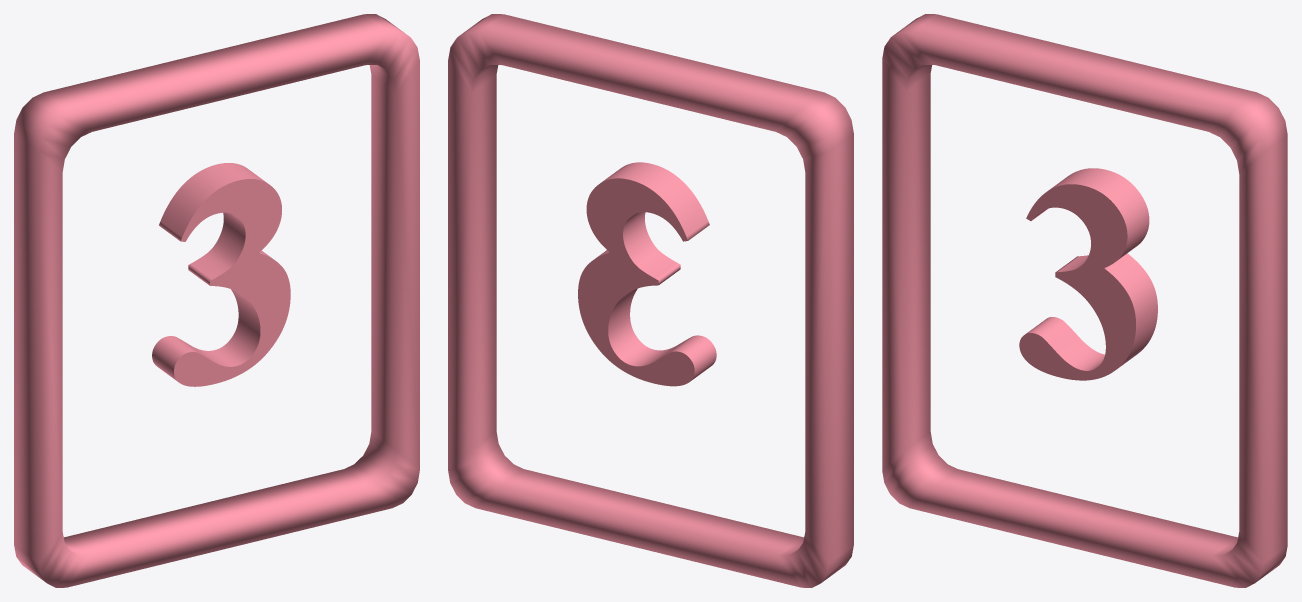
Rendered from Number_3.gltf.
3 views of the same model, side by side, from view 1: azimuth 30°, elevation 25°; view 2: azimuth 150°, elevation 25°; view 3: azimuth 330°, elevation 25° (orthographic).
Parts seen in each view (by area): view 1: Numbers.004; view 2: Numbers.004; view 3: Numbers.004.
Boxes of the visible parts, left/top/right/bottom form: Numbers.004: left=14, top=14, right=419, bottom=587; Numbers.004: left=448, top=14, right=853, bottom=587; Numbers.004: left=882, top=14, right=1287, bottom=587.
Bounding box in the file's own units: 1 × 1.2 × 0.1143.
